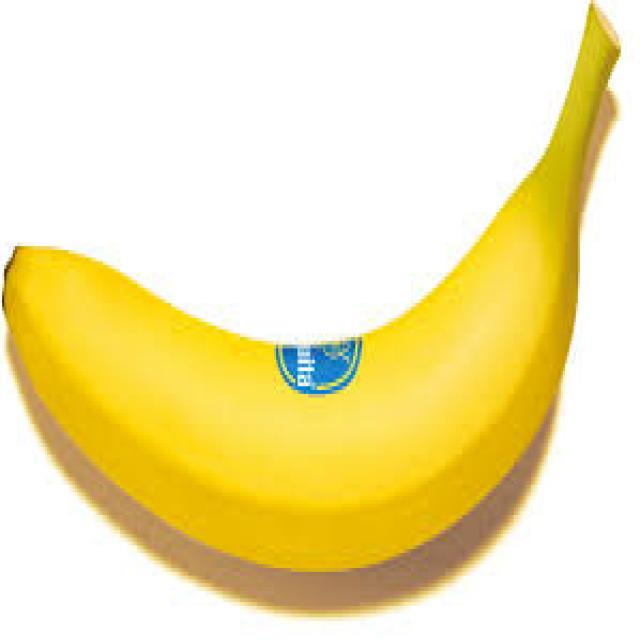banana: (0, 0, 621, 587)
